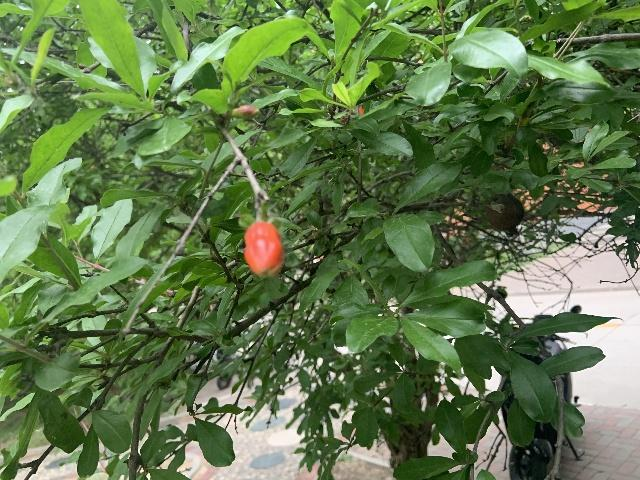bud: (243, 221, 284, 277), (232, 105, 259, 119)
